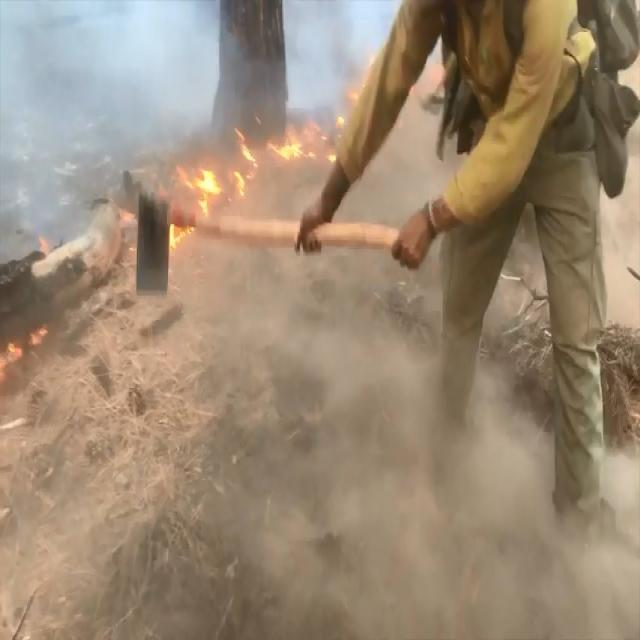Fire: (137, 104, 349, 278)
